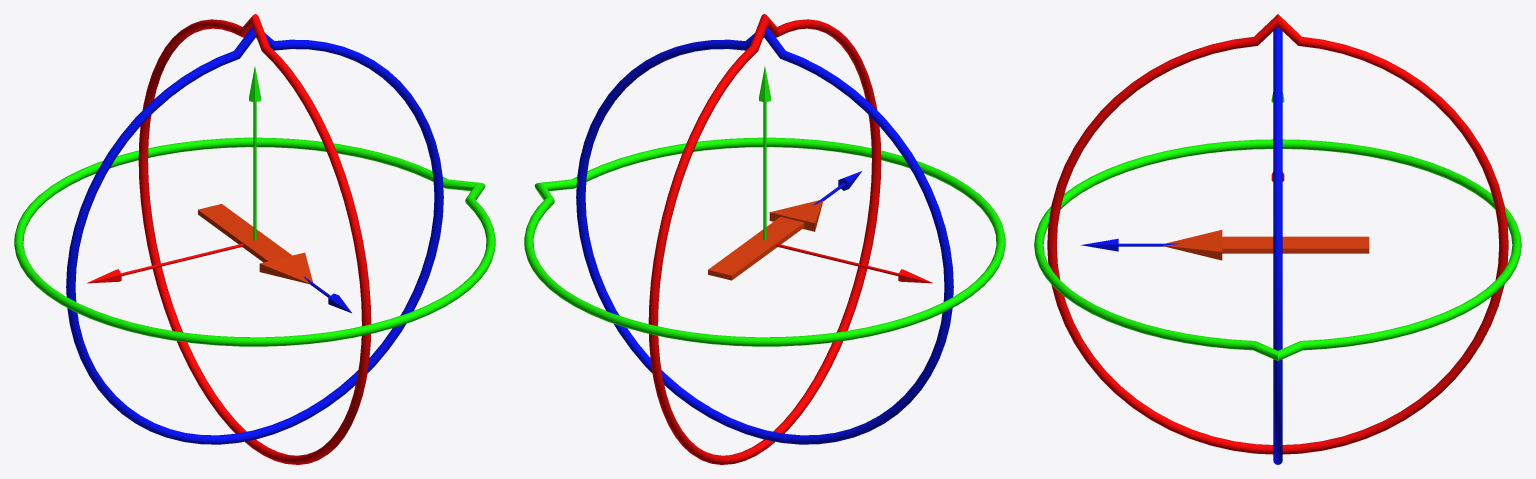
The model's file is Universal_Lock.FBX.
3 views of the same model, side by side, from view 1: azimuth 30°, elevation 25°; view 2: azimuth 150°, elevation 25°; view 3: azimuth 270°, elevation 25° (orthographic).
Parts seen in each view (by area): view 1: XY_Face_Z, XZ_Face_Y, YZ_Face_X, +Z_Forward, Axis; view 2: XY_Face_Z, XZ_Face_Y, YZ_Face_X, +Z_Forward, Axis; view 3: YZ_Face_X, XZ_Face_Y, XY_Face_Z, +Z_Forward, Axis.
Boxes of the visible parts, left/top/right/bottom form: XY_Face_Z: left=66, top=27, right=443, bottom=444; XZ_Face_Y: left=14, top=137, right=495, bottom=346; YZ_Face_X: left=138, top=14, right=371, bottom=464; +Z_Forward: left=198, top=204, right=312, bottom=284; Axis: left=87, top=66, right=351, bottom=313; XY_Face_Z: left=576, top=27, right=953, bottom=444; XZ_Face_Y: left=524, top=137, right=1005, bottom=346; YZ_Face_X: left=648, top=14, right=881, bottom=464; +Z_Forward: left=708, top=200, right=823, bottom=280; Axis: left=759, top=66, right=932, bottom=283; YZ_Face_X: left=1047, top=14, right=1508, bottom=454; XZ_Face_Y: left=1034, top=139, right=1521, bottom=360; XY_Face_Z: left=1273, top=27, right=1282, bottom=464; +Z_Forward: left=1163, top=230, right=1369, bottom=260; Axis: left=1080, top=92, right=1284, bottom=251.
Size of the model in its own units: 537 by 508 by 510.
